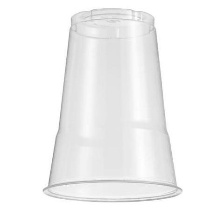glass: (40, 2, 186, 212)
